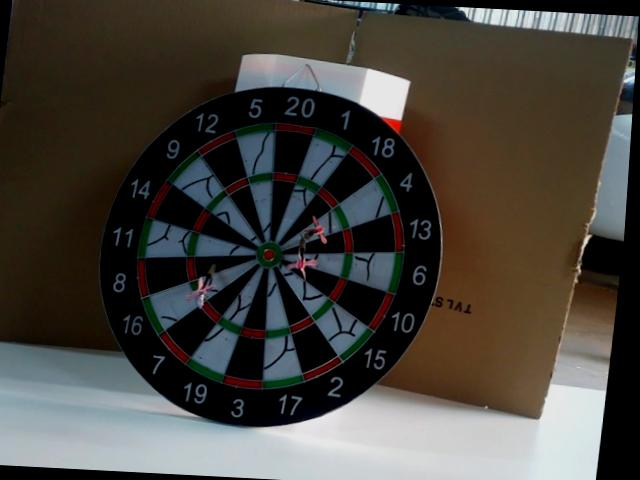single_13: (283, 236, 343, 255)
single_4: (292, 211, 342, 241)
single_8: (198, 259, 250, 276)
